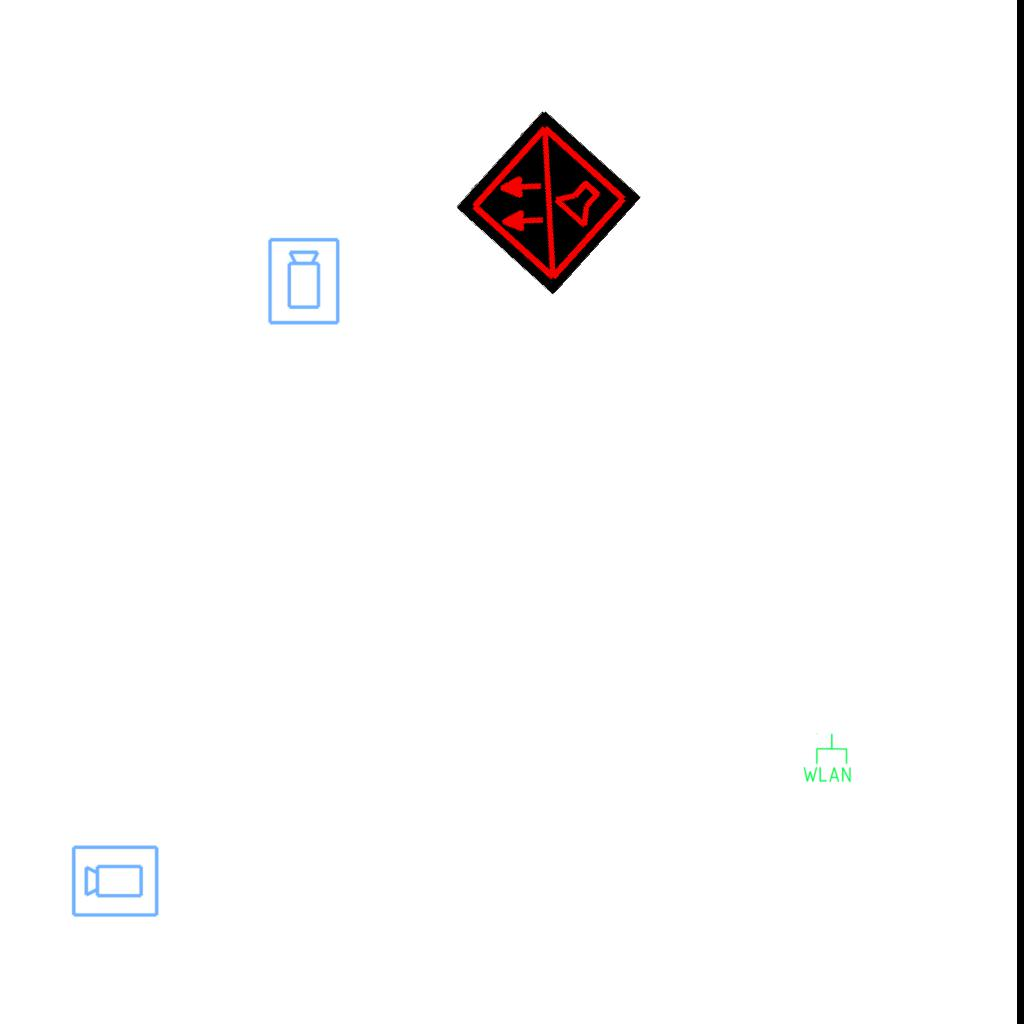KFO_Kamera_mit_Festobjektiv: (70, 842, 161, 919), (266, 236, 343, 327)
OKW_Multisensormelder_(Kombination_optischer_Rauch-Kahlenmonoxid_Waerme-Melder): (454, 108, 642, 296)
WLAN: (801, 732, 853, 784)
